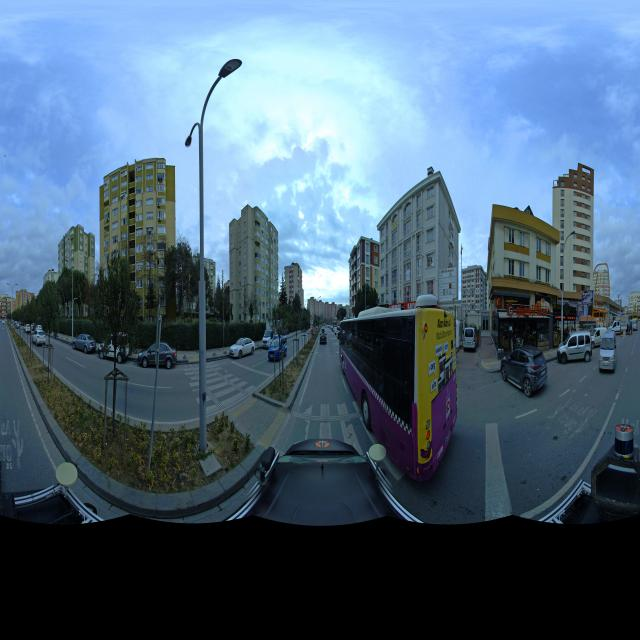SignStore: (507, 302, 548, 319), (388, 302, 418, 311), (563, 303, 577, 321), (553, 303, 562, 319), (593, 300, 605, 309), (440, 267, 455, 273)
